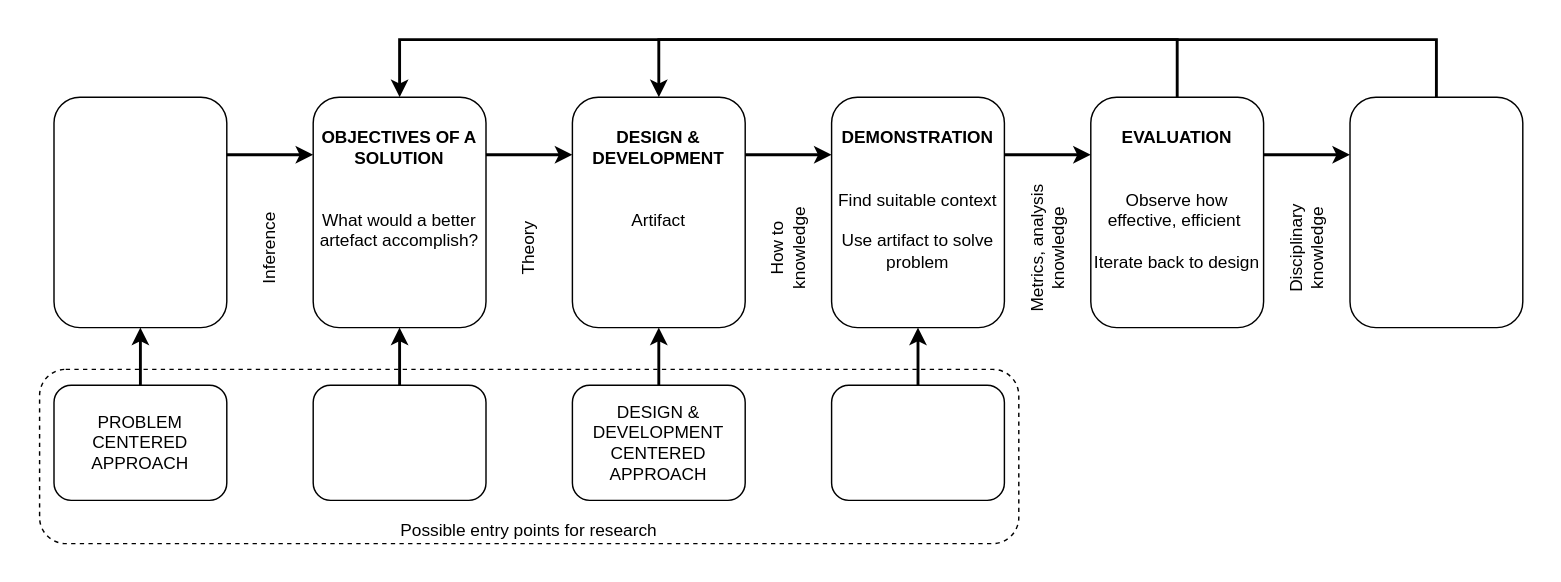
This 1561x582 diagram has some shape labels left out. Each missing label, with the centre of its shape:
"COMMUNICATION Scholarly publications Professional publications" goes at point 1436,212.
"OBJETIVE CENTERED SOLUTION" goes at point 399,442.
"OBSERVING A SOLUTION" goes at point 917,442.
"PROBLEM IDENTIFICATION & MOTIVATION Define problem Show importance" goes at point 140,212.
